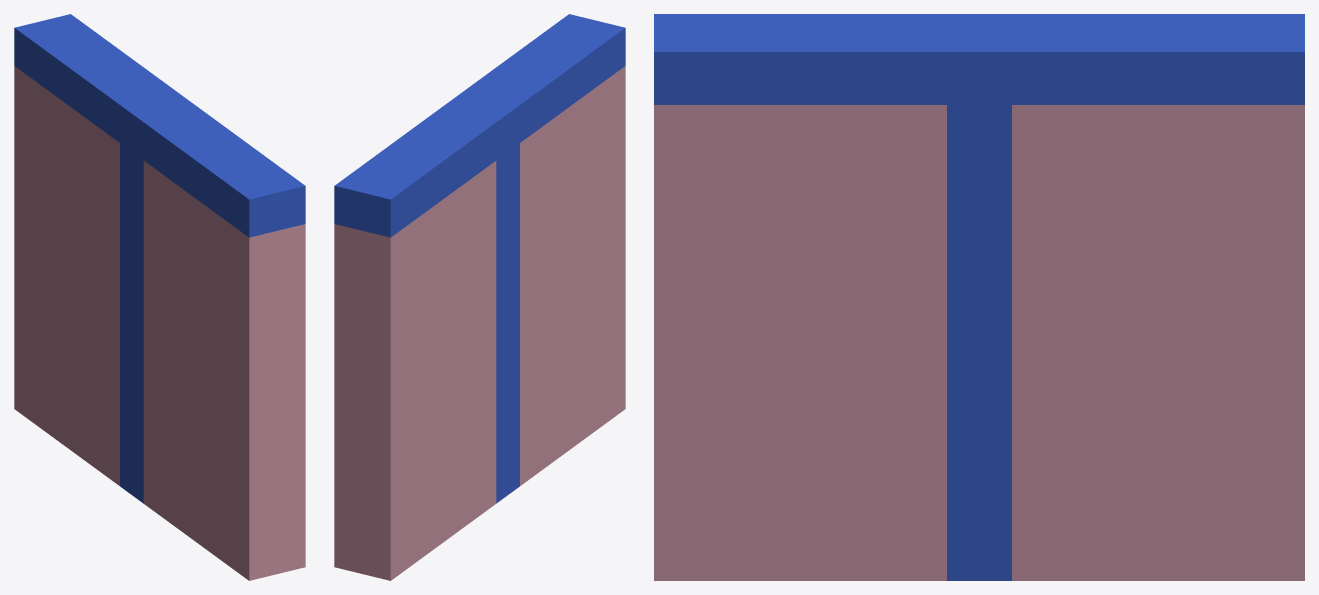
Rendered from teleportwallv2.fbx.
The picture shows the model from 3 angles, left to right: view 1: azimuth 30°, elevation 25°; view 2: azimuth 150°, elevation 25°; view 3: azimuth 270°, elevation 25°; orthographic projection. The views are drawn at different scales.
Visible parts, largest first — view 1: Cube; view 2: Cube; view 3: Cube.
Boxes of the visible parts, x1,y1,x2,y2 form: Cube: [14, 14, 305, 580]; Cube: [334, 14, 625, 580]; Cube: [654, 14, 1304, 580].
Bounding box in the file's own units: 94.78 × 614 × 684.
